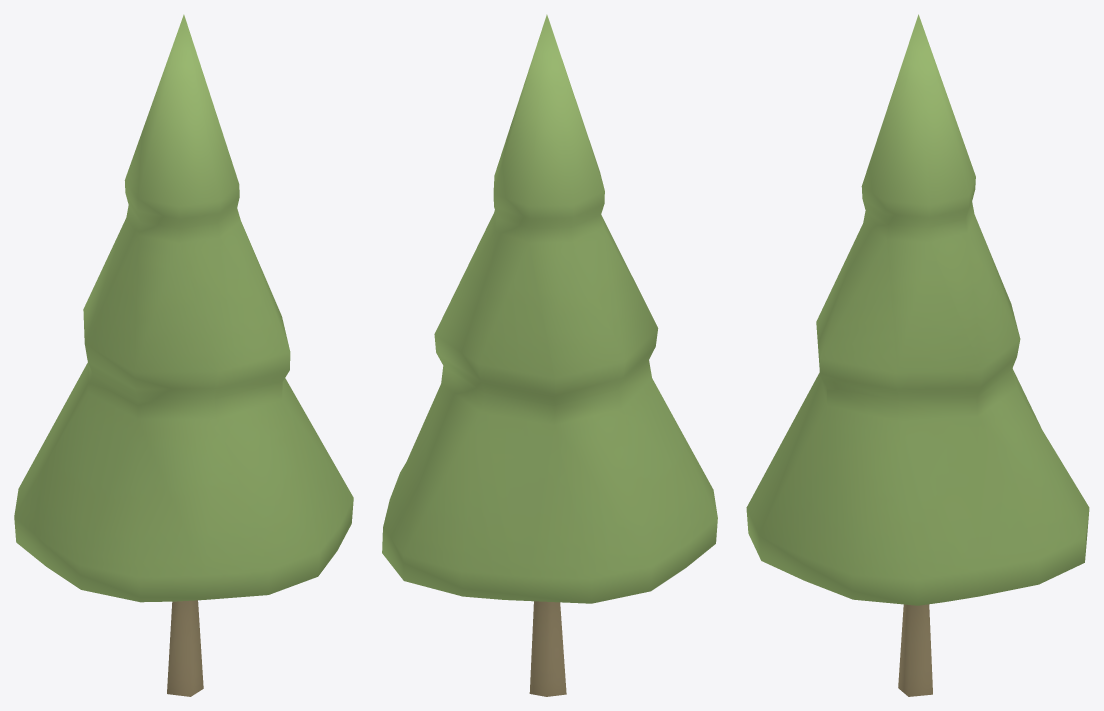
3 renders of one model, left to right at view 1: azimuth 30°, elevation 25°; view 2: azimuth 150°, elevation 25°; view 3: azimuth 270°, elevation 25°, orthographic.
Visible parts, largest first — view 1: Pine; view 2: Pine; view 3: Pine.
Part boxes in pixels (x1,y1,x2,y2): Pine: (14,14,353,696); Pine: (382,14,717,696); Pine: (746,14,1089,696).
Bounding box in the file's own units: 8.86 × 19.81 × 9.11.
1 material, 1 textured.
